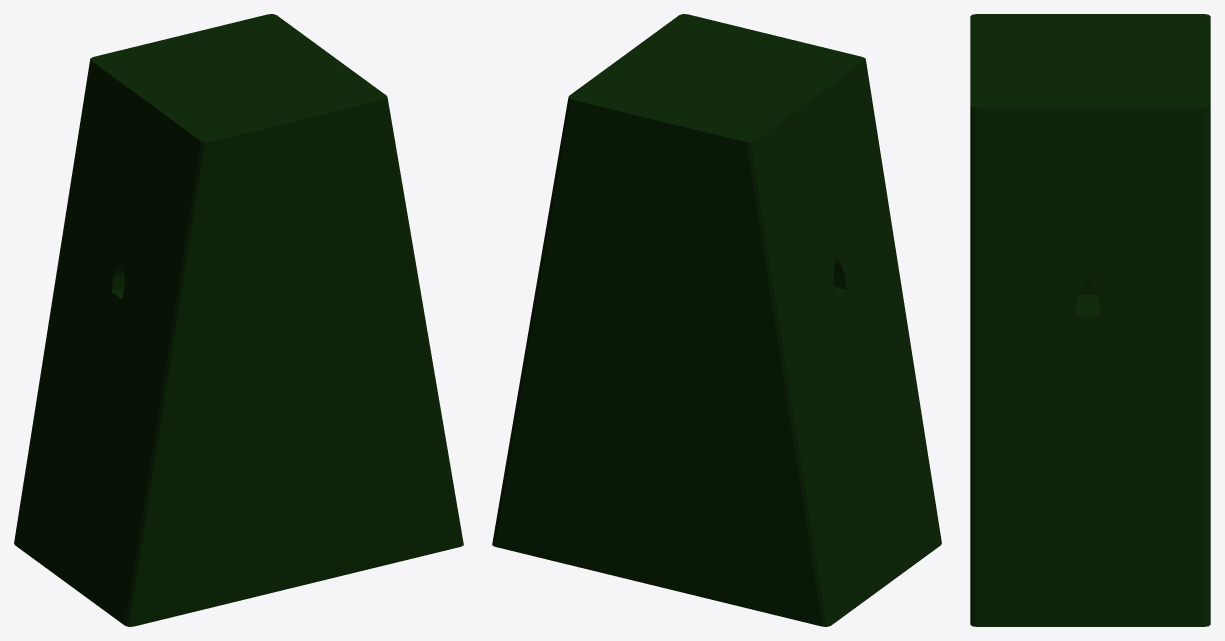
Rendered from tower6.fbx.
The picture shows the model from 3 angles, left to right: view 1: azimuth 30°, elevation 25°; view 2: azimuth 150°, elevation 25°; view 3: azimuth 270°, elevation 25°; orthographic projection. The views are drawn at different scales.
Visible parts, largest first — view 1: tower6; view 2: tower6; view 3: tower6.
Boxes of the visible parts, x1,y1,x2,y2 form: tower6: [14, 14, 463, 626]; tower6: [492, 14, 941, 626]; tower6: [970, 14, 1210, 626].
Size of the model in its own units: 7.53 by 9.91 by 4.49.
